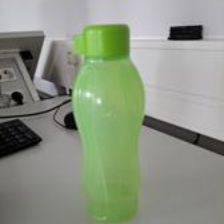bottle: (70, 22, 146, 224)
